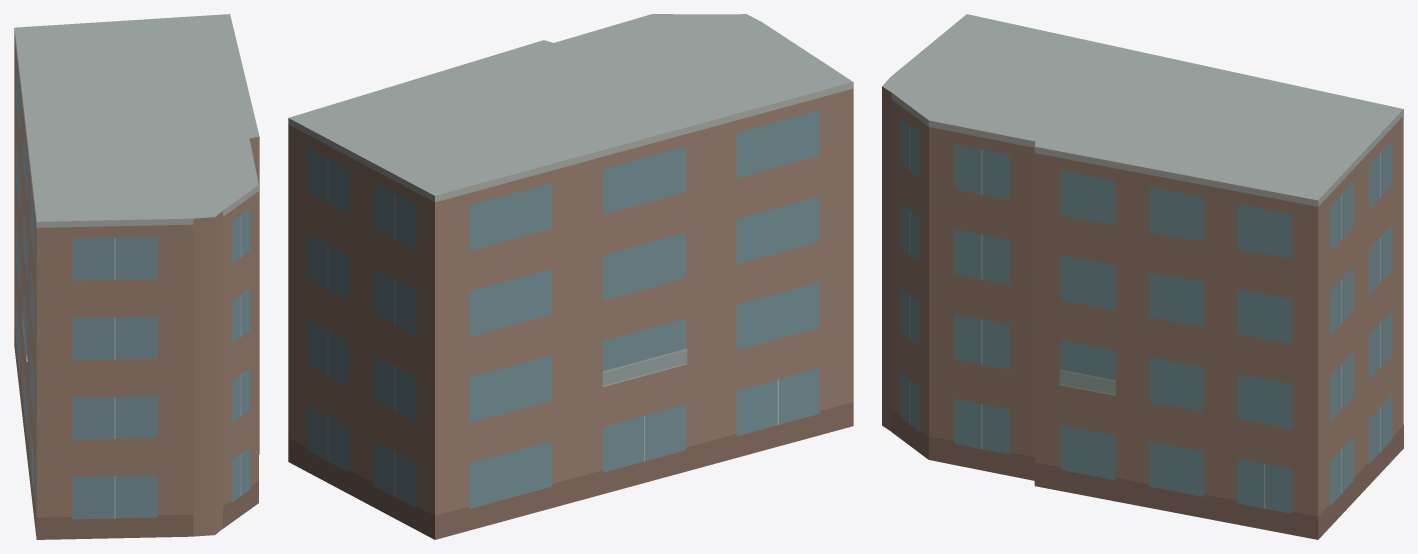
Rendered from survey-upis-33018279.glb.
3 renders of one model, left to right at view 1: azimuth 30°, elevation 25°; view 2: azimuth 150°, elevation 25°; view 3: azimuth 270°, elevation 25°, orthographic. The views are drawn at different scales.
Parts seen in each view (by area): view 1: survey-upis-33018279.tmp; view 2: survey-upis-33018279.tmp; view 3: survey-upis-33018279.tmp.
Part boxes in pixels (x1,y1,x2,y2): survey-upis-33018279.tmp: (14, 14, 259, 539); survey-upis-33018279.tmp: (288, 14, 853, 539); survey-upis-33018279.tmp: (882, 14, 1403, 539).
Bounding box in the file's own units: 15.21 × 12.9 × 17.97.
